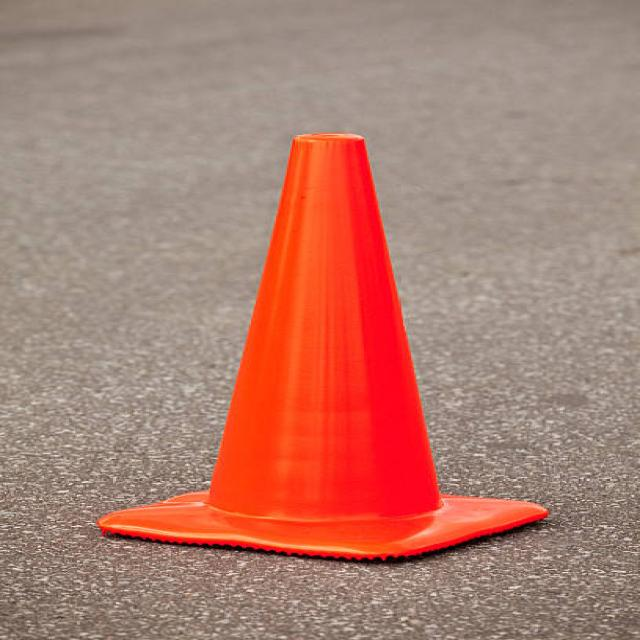Traffic Cone: (81, 86, 575, 608)
